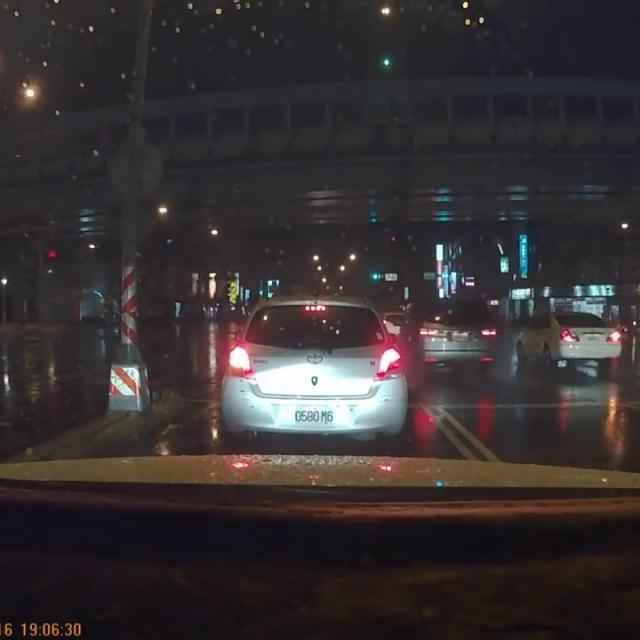Car: (220, 294, 408, 440), (511, 306, 621, 369), (406, 303, 498, 372), (381, 307, 409, 328)
